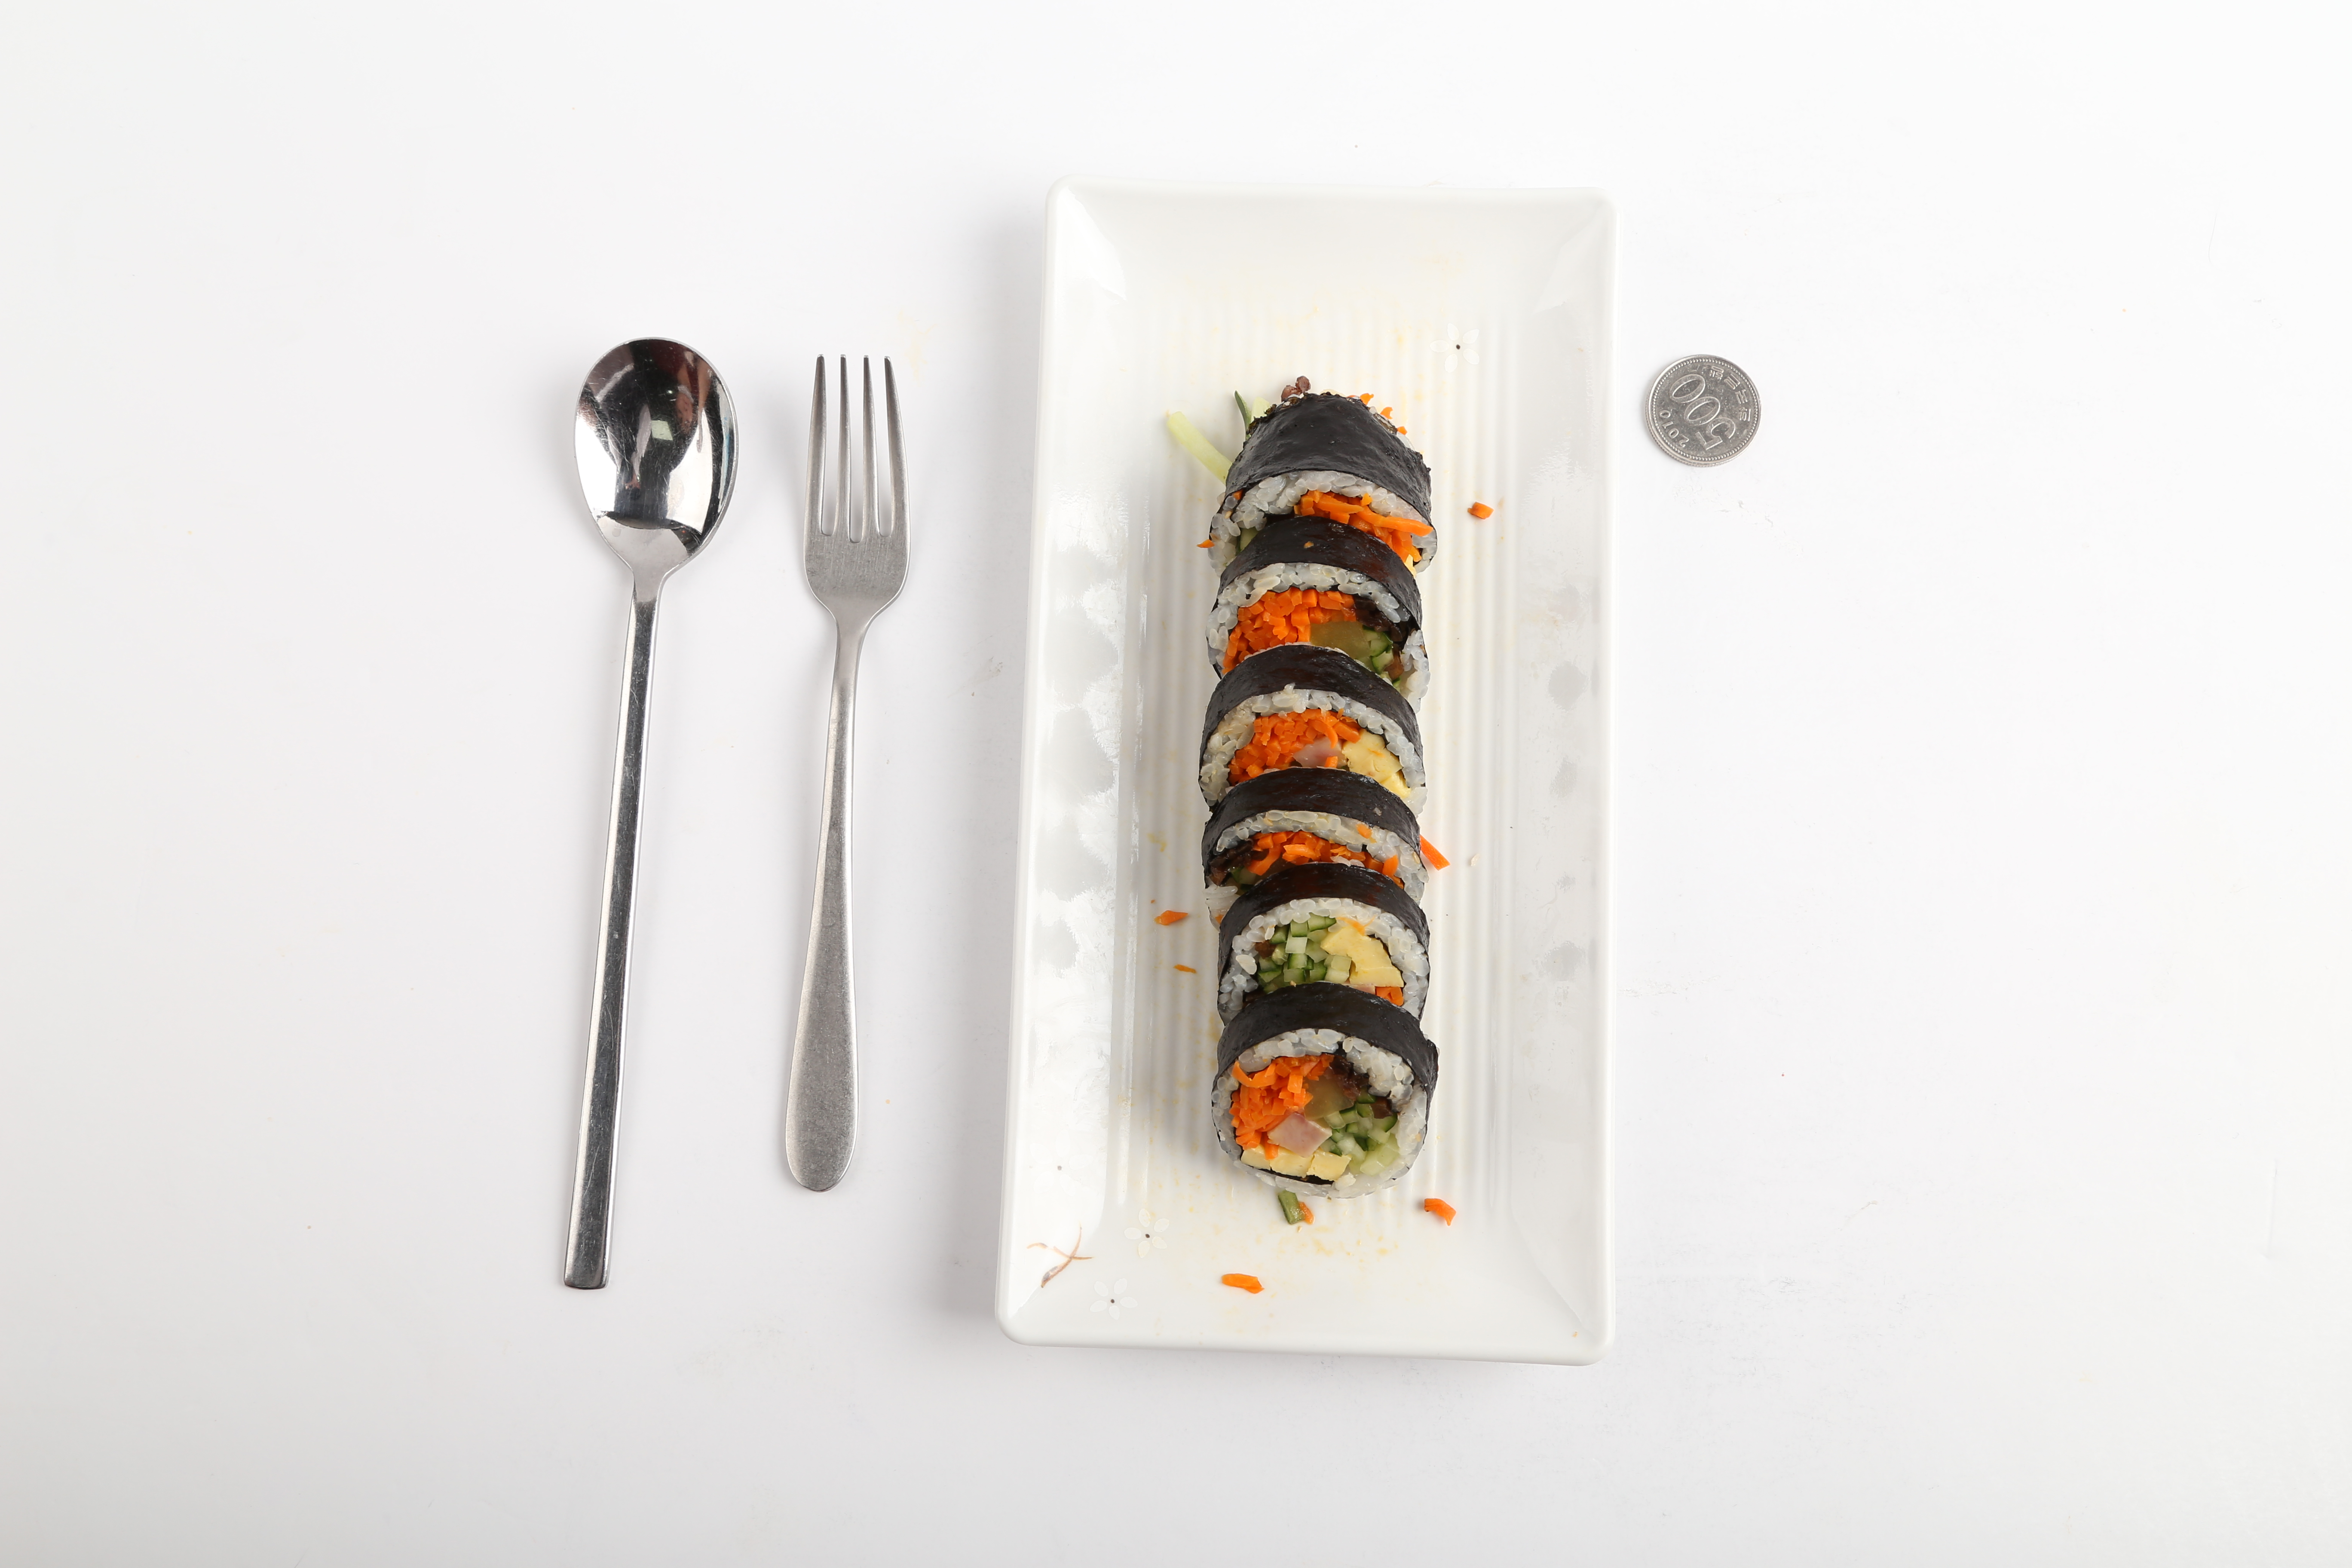dish: (992, 178, 1622, 1372)
ref_coin: (1641, 352, 1764, 471)
ref_fork: (794, 352, 913, 663)
ref_spoon: (570, 327, 740, 623)
김밥: (1195, 390, 1445, 1197)
